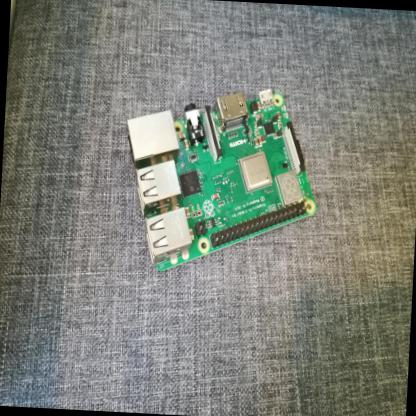Raspberry_Pi_3: (117, 81, 329, 282)
